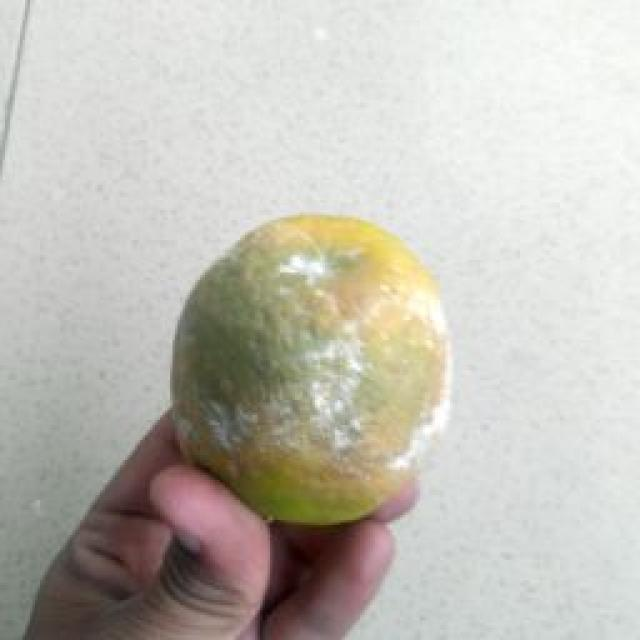Bad_Orange: (171, 215, 449, 524)
